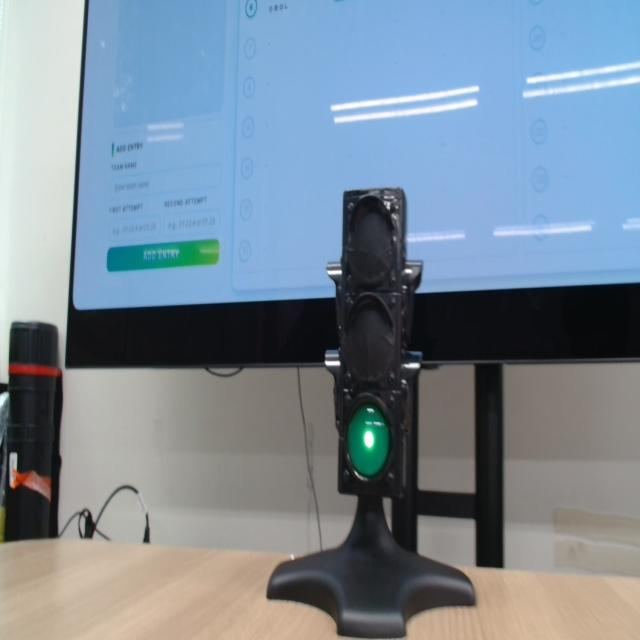green_light: (347, 405, 390, 479)
